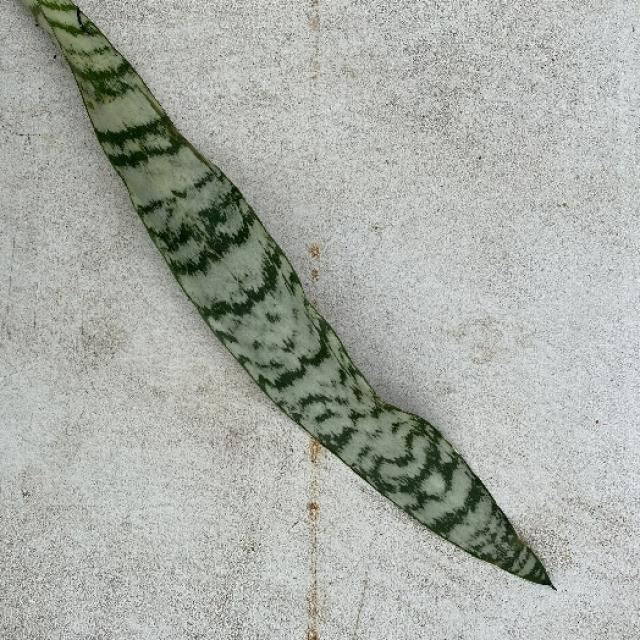organik: (43, 0, 557, 583)
